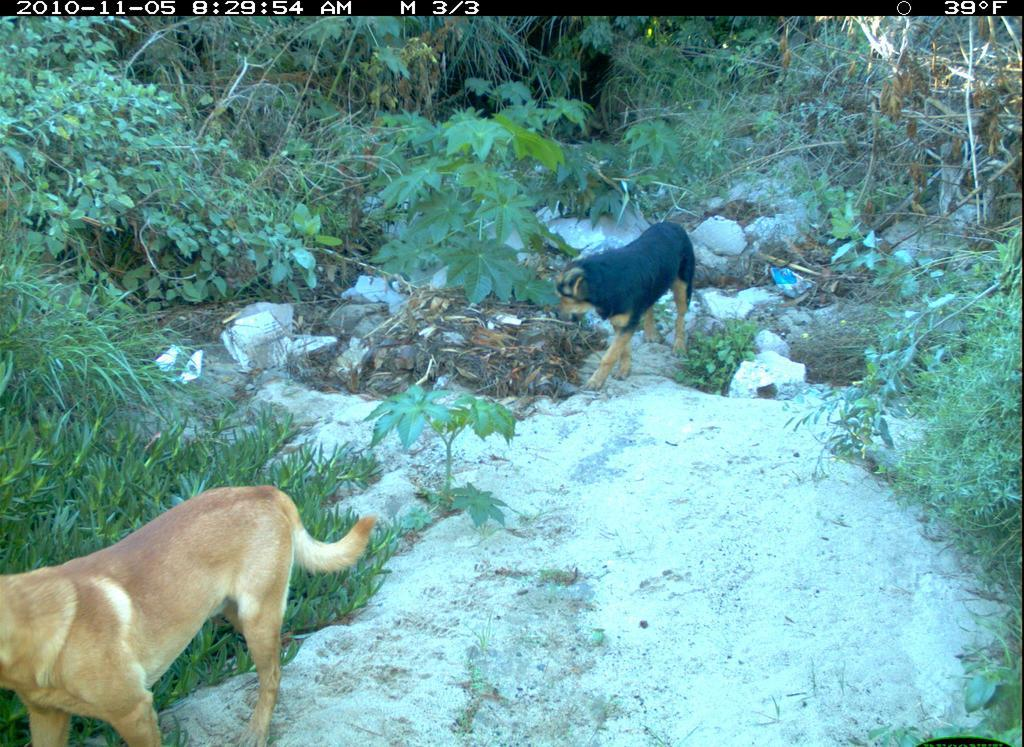dog: (3, 481, 382, 747), (557, 222, 702, 399)
